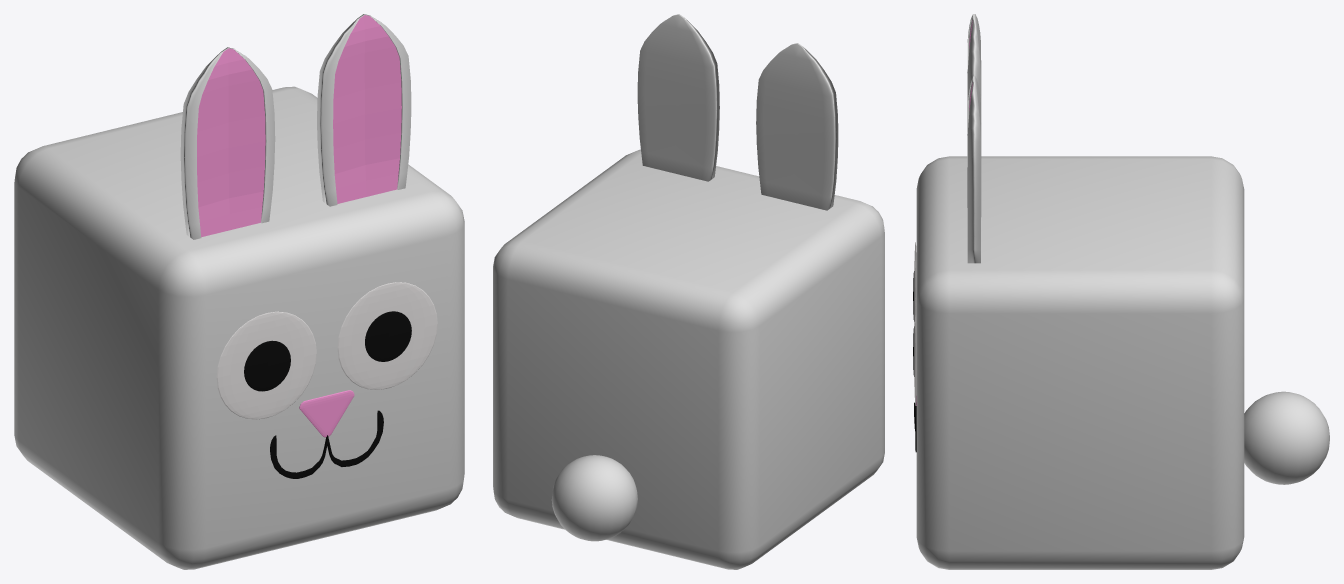
The model's file is Rabbit.fbx.
3 renders of one model, left to right at view 1: azimuth 30°, elevation 25°; view 2: azimuth 150°, elevation 25°; view 3: azimuth 270°, elevation 25°, orthographic. The views are drawn at different scales.
Parts seen in each view (by area): view 1: Rabbit; view 2: Rabbit; view 3: Rabbit.
Part boxes in pixels (<box>): Rabbit: <box>14,14,464,569</box>; Rabbit: <box>493,14,884,569</box>; Rabbit: <box>913,14,1329,569</box>.
Size of the model in its own units: 200 by 314 by 254.
